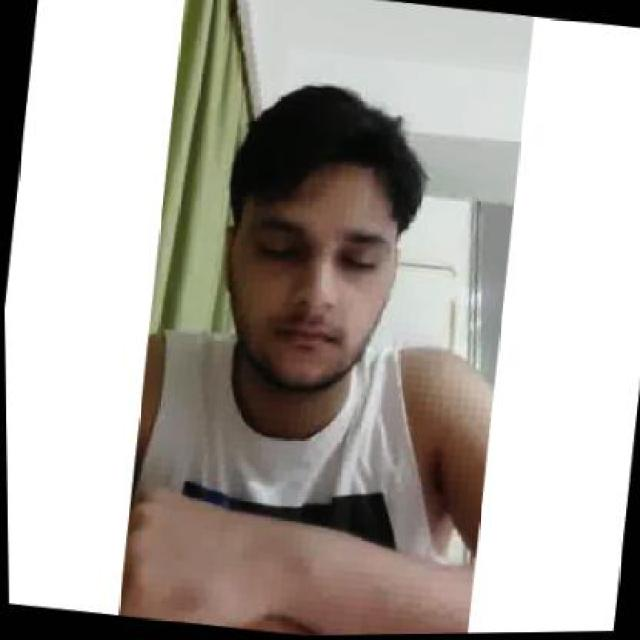inattentif: (200, 72, 418, 408)
